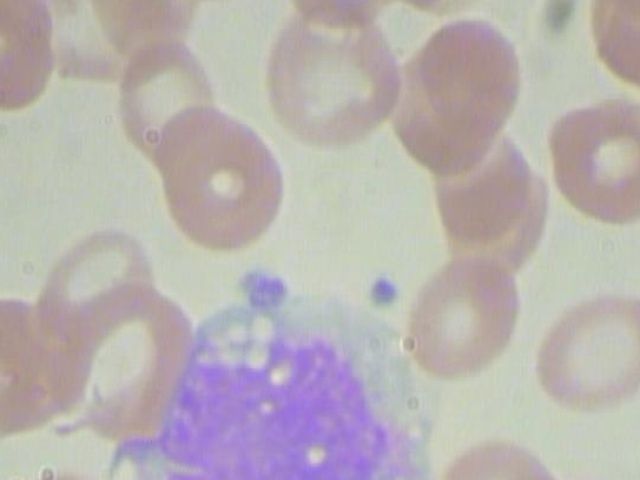RBC: (251, 0, 409, 151), (158, 107, 290, 259), (28, 203, 164, 350), (399, 244, 532, 380), (411, 10, 533, 155), (523, 279, 640, 421), (544, 88, 640, 233), (433, 431, 559, 480)
WBC: (106, 265, 442, 480)
